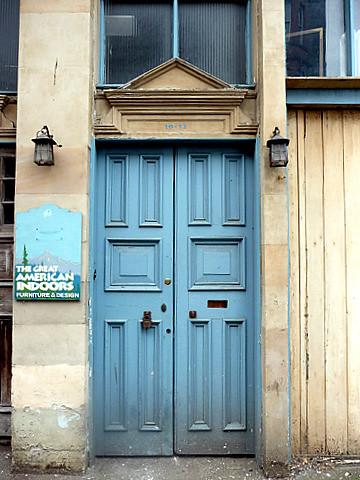door: (92, 139, 259, 458)
